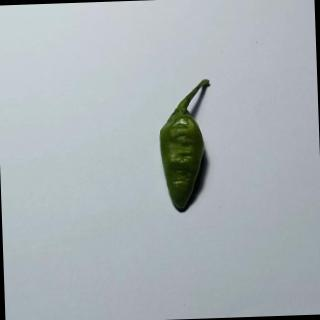Cabai Hijau: (152, 78, 220, 217)
